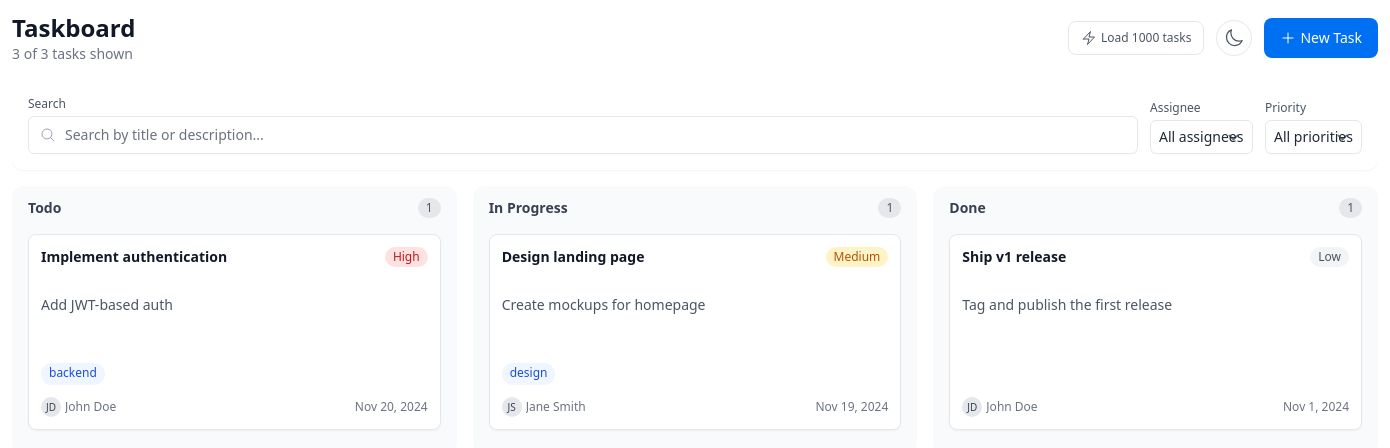
Test case: TaskBoard › filters tasks by assignee
Select "Jane Smith" in the dropdown named "filter by assignee": (1202, 137) [1150,120,1253,154]
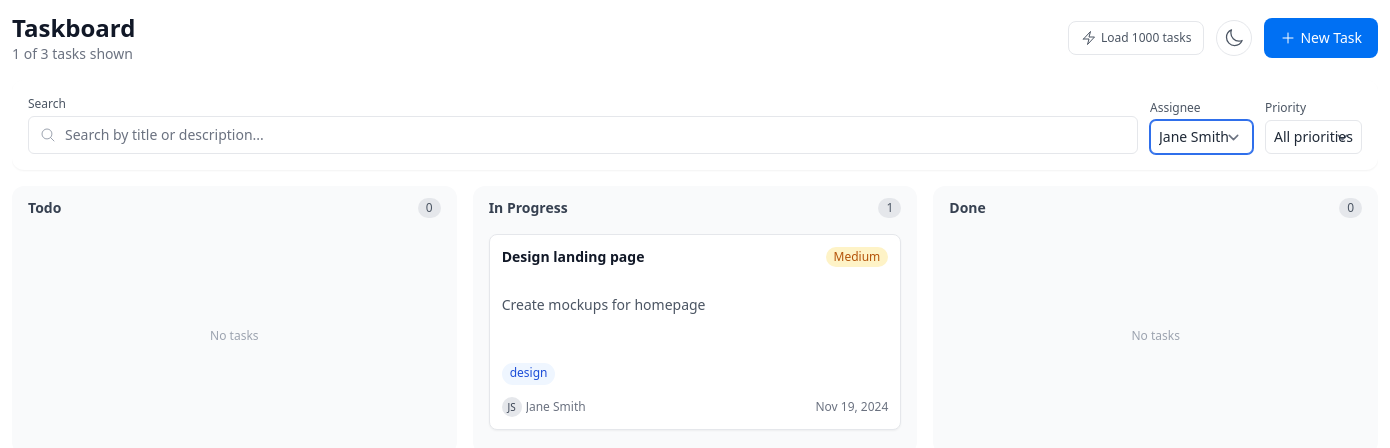
Check: the heading "Implement authentication" is gone
Check: the heading "Ship v1 release" is gone
Check: the text "1 of 3 tasks shown" is shown, box [12,44,135,64]
